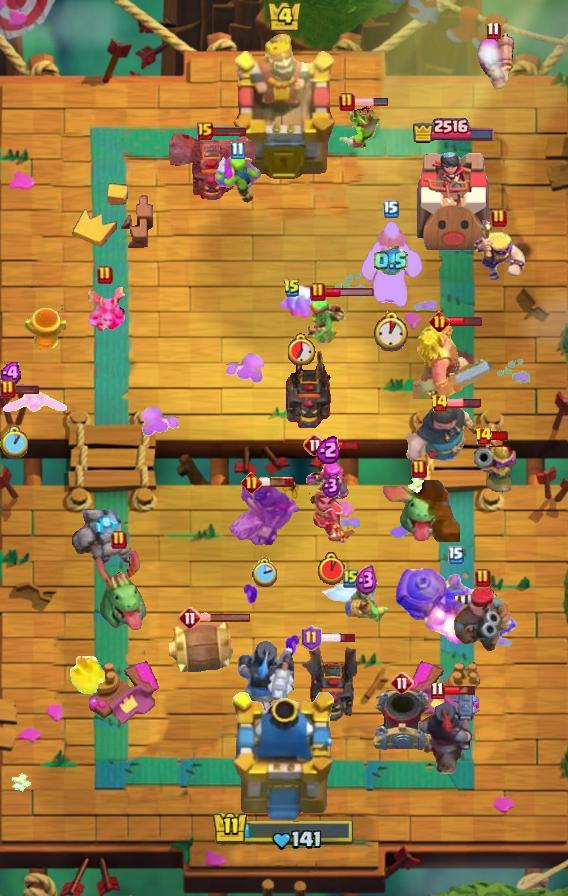archer-evolution: (169, 133, 263, 203), (297, 640, 357, 724), (283, 347, 337, 429)
arrows: (473, 220, 528, 280)
barbarian: (0, 389, 70, 417)
bomb-tower: (474, 440, 516, 508)
bomber-evolution: (307, 481, 357, 547)
clock: (212, 810, 356, 852)
electro-spirit: (374, 246, 408, 276), (316, 435, 342, 464), (354, 564, 377, 595), (0, 362, 24, 384), (322, 474, 342, 499)
electro-wizard: (378, 480, 460, 542), (91, 549, 147, 633)
elixir: (373, 312, 412, 353), (288, 333, 316, 365), (0, 427, 28, 458), (319, 552, 345, 585), (251, 557, 277, 587)
emote: (200, 612, 252, 623), (324, 287, 375, 298), (319, 632, 356, 644), (211, 125, 247, 137), (4, 383, 40, 395), (446, 397, 482, 409), (259, 476, 295, 488), (449, 315, 484, 327), (325, 439, 360, 451), (442, 684, 477, 696), (353, 97, 389, 107), (491, 430, 510, 442)
evolution-symbol: (303, 450, 355, 502)
freeze: (226, 482, 302, 548)
giant-snowball: (341, 579, 391, 623), (306, 297, 348, 343)
goblin-hut: (413, 321, 495, 399)
inferno-dragon: (415, 687, 480, 776), (237, 638, 297, 728)
king-tower: (231, 35, 337, 182), (227, 692, 341, 826)
mirror: (277, 284, 327, 322)
musketeer: (371, 686, 433, 754)
phoenix-small: (452, 584, 514, 652)
queen-tower: (410, 144, 496, 255)
rage: (358, 220, 424, 308)
royal-delivery: (85, 283, 125, 333)
royal-hog: (405, 401, 501, 469)
selected: (411, 116, 495, 144)
text: (303, 433, 327, 457), (178, 606, 202, 630), (390, 671, 414, 695), (302, 625, 323, 651), (430, 311, 451, 333), (241, 471, 263, 492), (430, 393, 450, 413), (475, 426, 494, 446), (283, 278, 301, 298), (339, 92, 355, 112), (491, 208, 507, 228), (97, 265, 113, 285), (310, 282, 326, 302), (0, 379, 16, 399), (411, 459, 427, 479), (111, 530, 127, 550), (475, 568, 491, 588), (343, 568, 359, 588), (197, 122, 213, 140), (383, 200, 399, 218), (448, 546, 464, 564), (431, 680, 446, 699), (486, 21, 501, 39), (231, 141, 245, 160)
the-log: (166, 621, 240, 673)
tombstone: (471, 30, 515, 92)
valkyrie: (64, 656, 110, 698)
valkyrie-evolution: (72, 509, 138, 571)
wizard: (394, 567, 518, 645)
zap: (211, 153, 263, 203), (339, 103, 382, 149)
